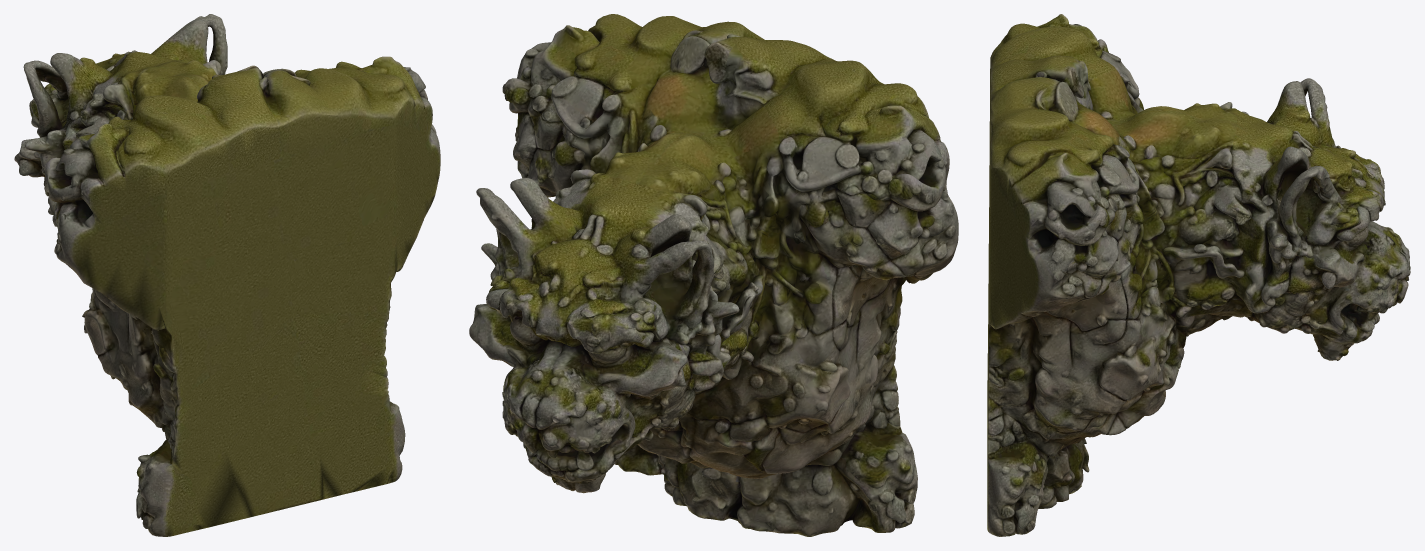
Rendered from gargoyle-statue-low.glb.
3 renders of one model, left to right at view 1: azimuth 30°, elevation 25°; view 2: azimuth 150°, elevation 25°; view 3: azimuth 270°, elevation 25°, orthographic. The views are drawn at different scales.
Visible parts, largest first — view 1: tripo_node_1b29d1b9-3b0a-41dc-b329-40d5306a0ce2; view 2: tripo_node_1b29d1b9-3b0a-41dc-b329-40d5306a0ce2; view 3: tripo_node_1b29d1b9-3b0a-41dc-b329-40d5306a0ce2.
Boxes of the visible parts, box(x1,y1,x2,y2) form: tripo_node_1b29d1b9-3b0a-41dc-b329-40d5306a0ce2: box(14, 14, 440, 536); tripo_node_1b29d1b9-3b0a-41dc-b329-40d5306a0ce2: box(469, 14, 958, 536); tripo_node_1b29d1b9-3b0a-41dc-b329-40d5306a0ce2: box(987, 14, 1410, 536).
Bounding box in the file's own units: 0.9424 × 0.982 × 0.9112.
1 material, 1 textured.
